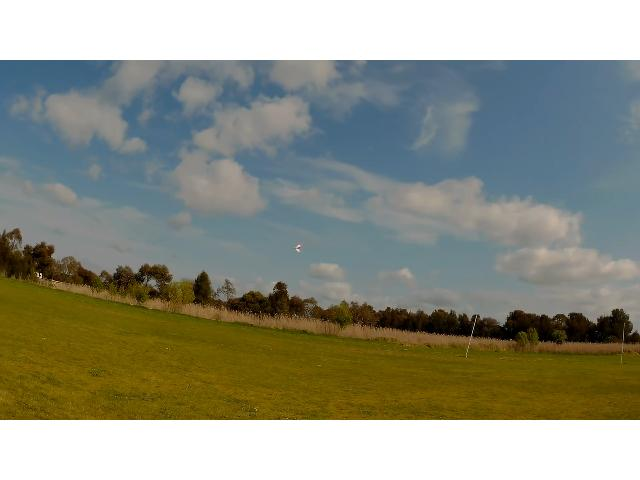Anti-Drone: (294, 242, 302, 251)
